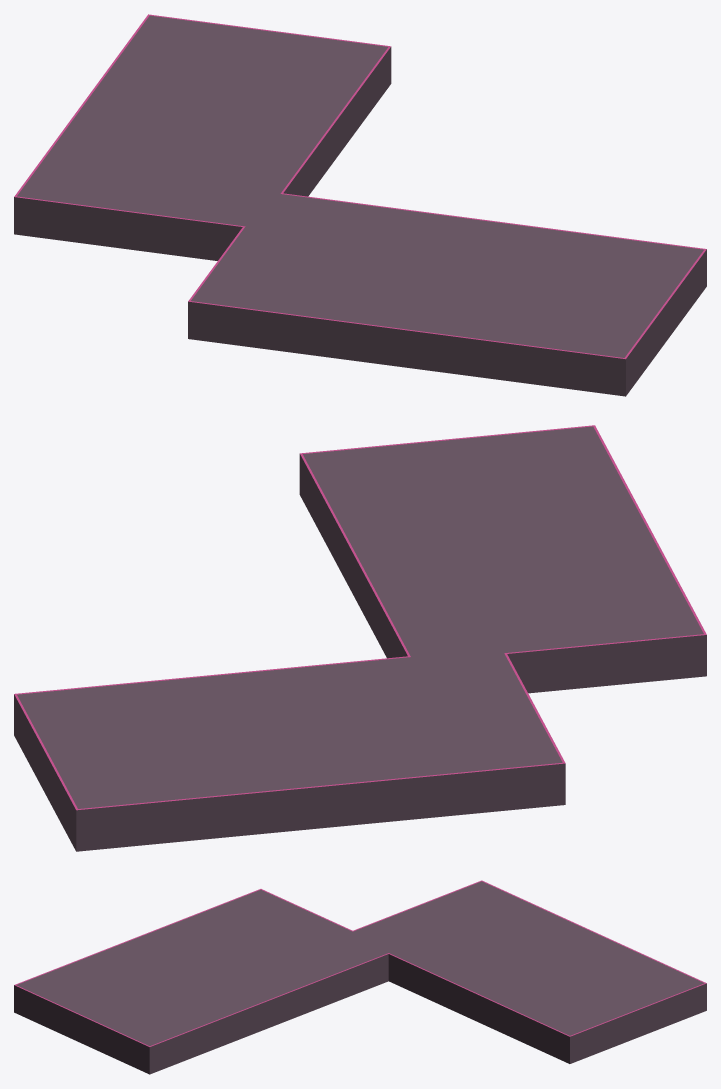
The model's file is way-1275168895.glb.
3 views of the same model, one above another, from view 1: azimuth 30°, elevation 25°; view 2: azimuth 150°, elevation 25°; view 3: azimuth 270°, elevation 25° (orthographic). The views are drawn at different scales.
Parts seen in each view (by area): view 1: way-1275168895; view 2: way-1275168895; view 3: way-1275168895.
Part boxes in pixels (x1,y1,x2,y2): way-1275168895: (14,14,706,396); way-1275168895: (14,425,706,851); way-1275168895: (14,880,706,1074).
Bounding box in the file's own units: 39.18 × 3 × 68.77.
